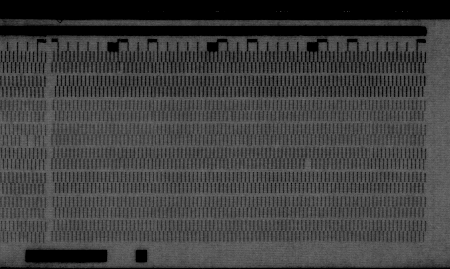Broken hole: (18, 135, 38, 148), (303, 158, 315, 172)
Oblique printing: (114, 61, 127, 76)
